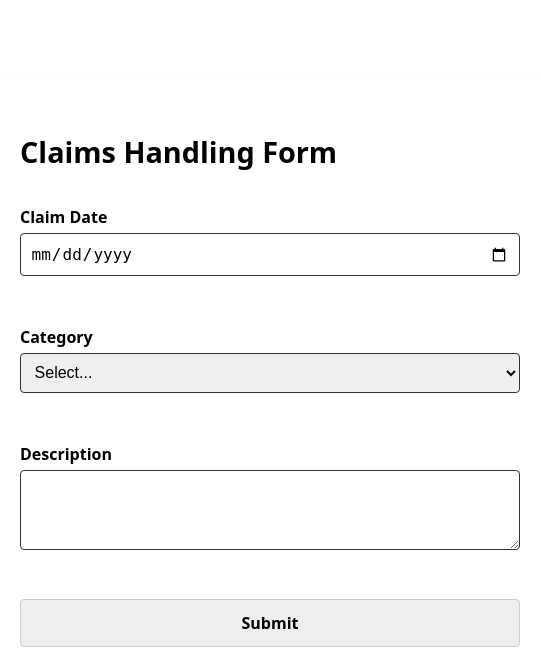
Test: ClaimsForm › submits form with valid data
Step 1. Type "2025-06-27" into the date field labelled "Claim Date" → (270, 255), box [20, 234, 520, 276]
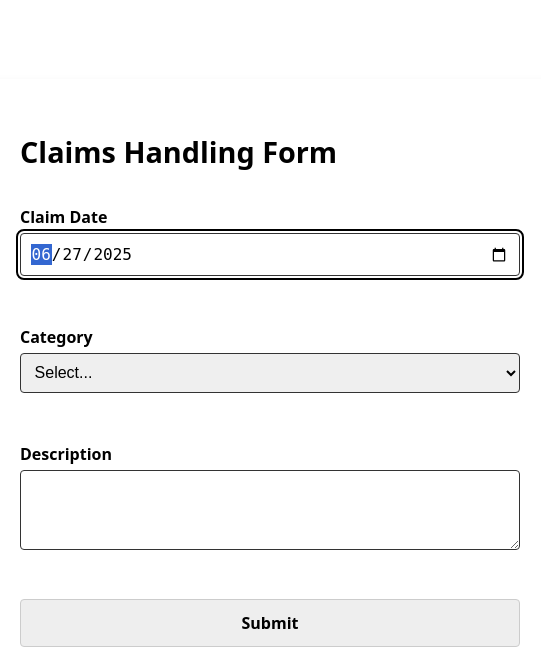
Step 2. Select "Theft" in the dropdown labelled "Category" → (270, 373), box [20, 353, 520, 393]
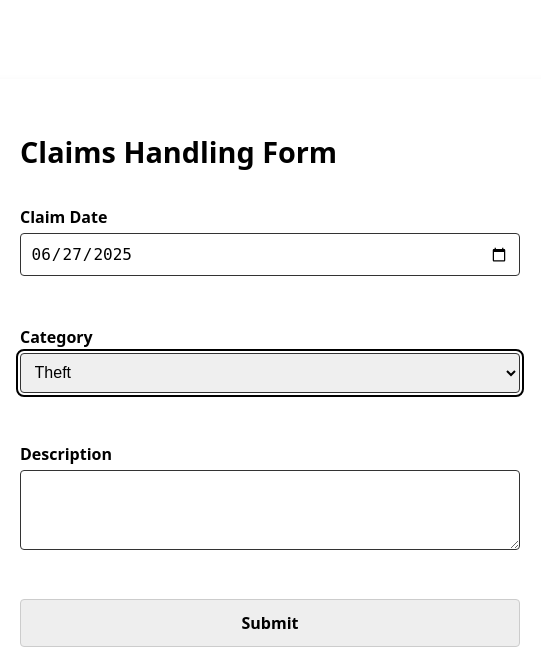
Step 3. Type "Lost phone during travel" into the text box labelled "Description" → (270, 510), box [20, 470, 520, 550]
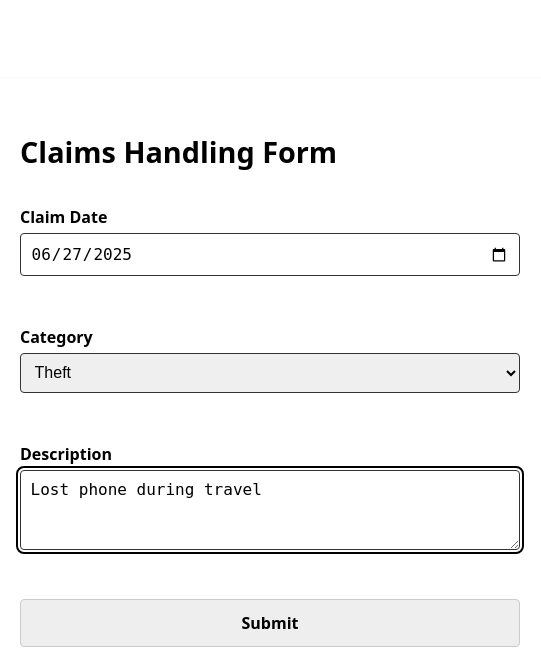
Step 4. Click the button "Submit" → (270, 623), box [20, 599, 520, 647]
(page scrolled)
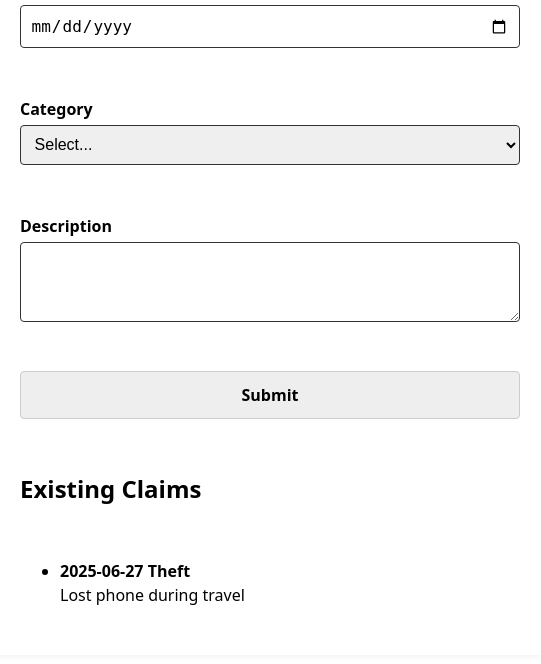
Expected: the heading "Existing Claims" is shown, [20, 472, 201, 505]
Expected: the list item "Lost phone during travel" is shown, [60, 584, 245, 606]
